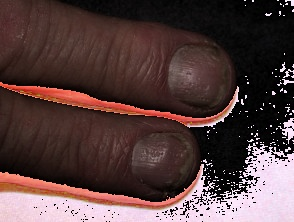Nail_psoriasis: (115, 119, 209, 211), (158, 36, 237, 115)
